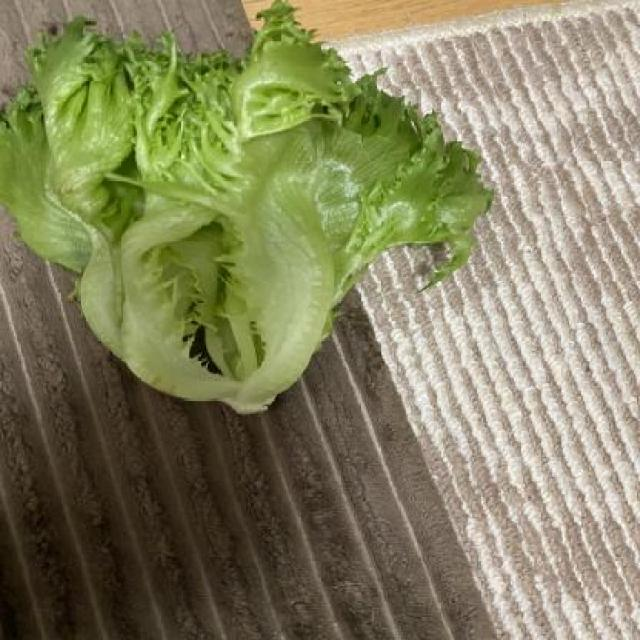lettuce: (4, 1, 490, 417)
